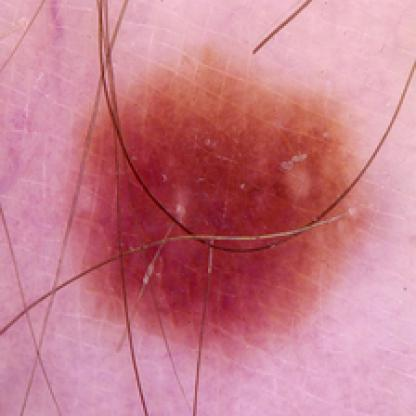benign: (80, 54, 358, 343)
